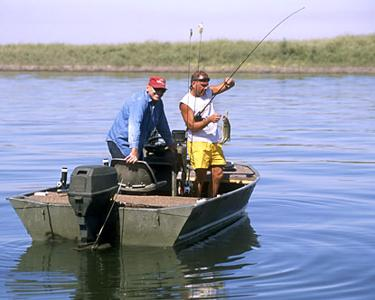person: (181, 71, 236, 199)
